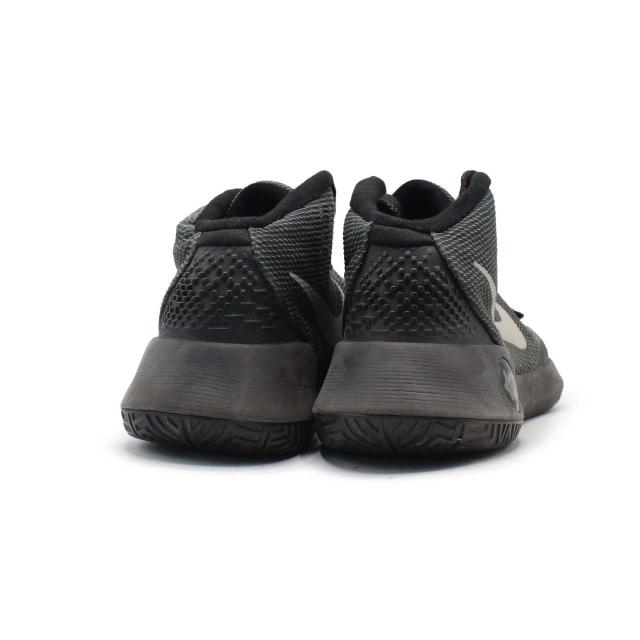heel: (158, 174, 336, 342), (345, 170, 501, 345)
midsole: (316, 339, 521, 463), (116, 337, 327, 455)
